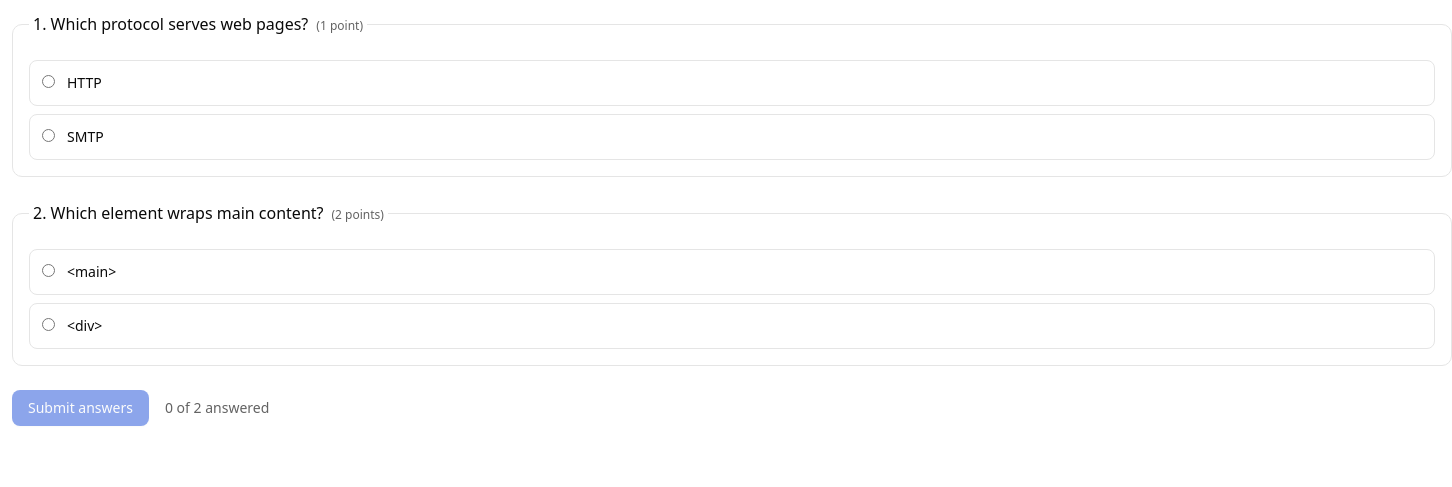
QuizForm › submits answers keyed by question id and shows server errors
The width and height of the screenshot is (1452, 487).
Click the radio button labelled "SMTP" at point(48, 136), box [42, 129, 55, 142]
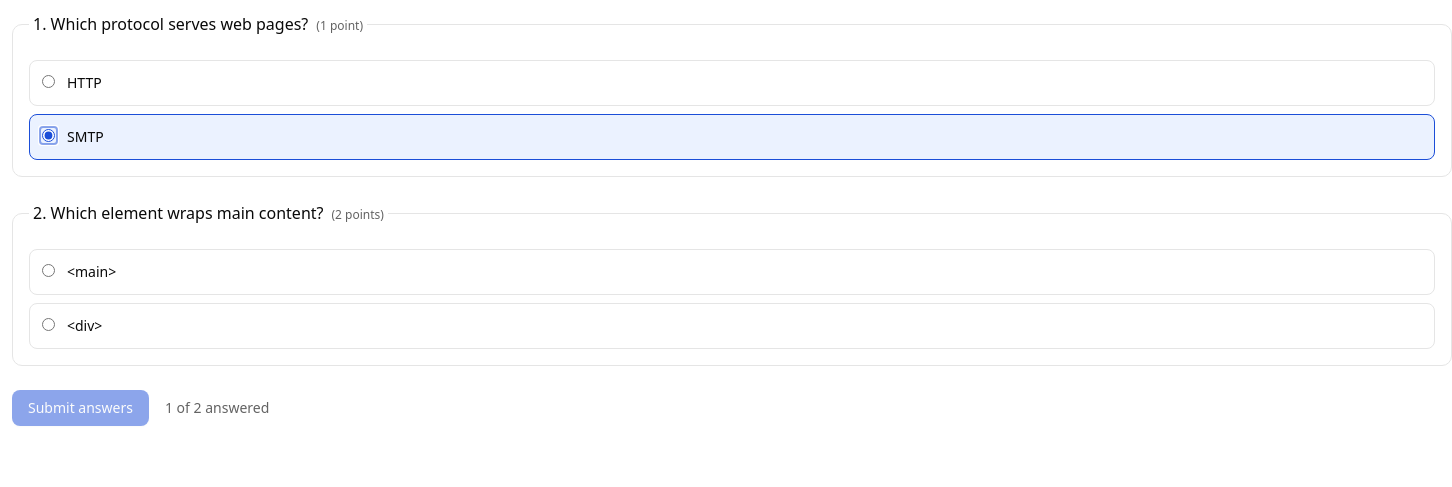
Click the radio button labelled "<main>" at point(48, 270), box [42, 264, 55, 277]
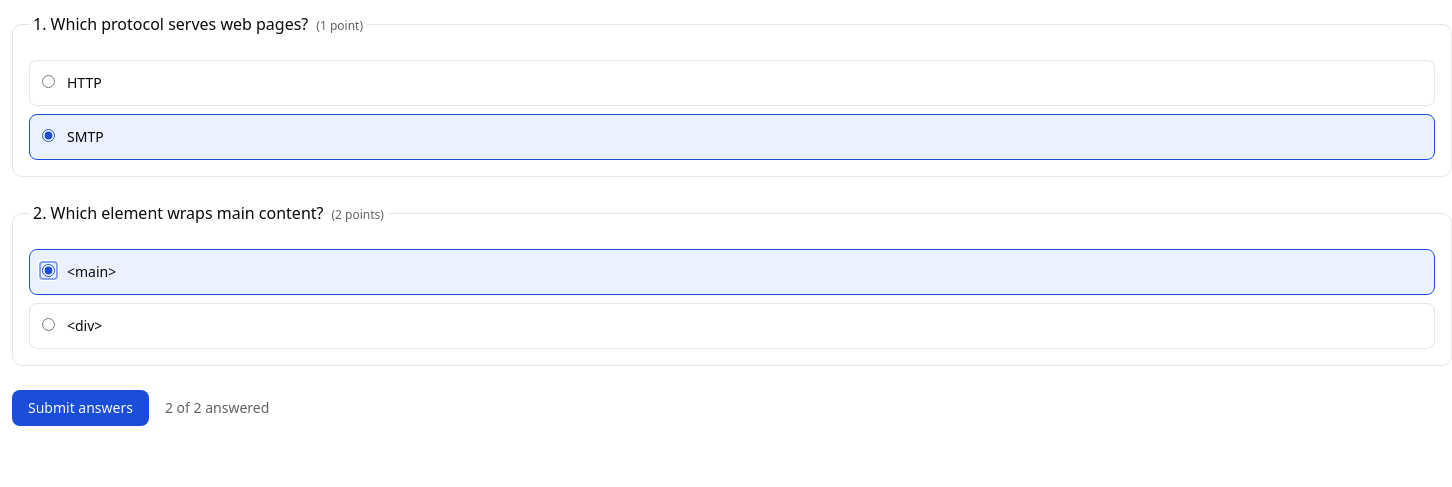
Click the button "Submit answers" at point(80, 408), box [12, 390, 149, 426]
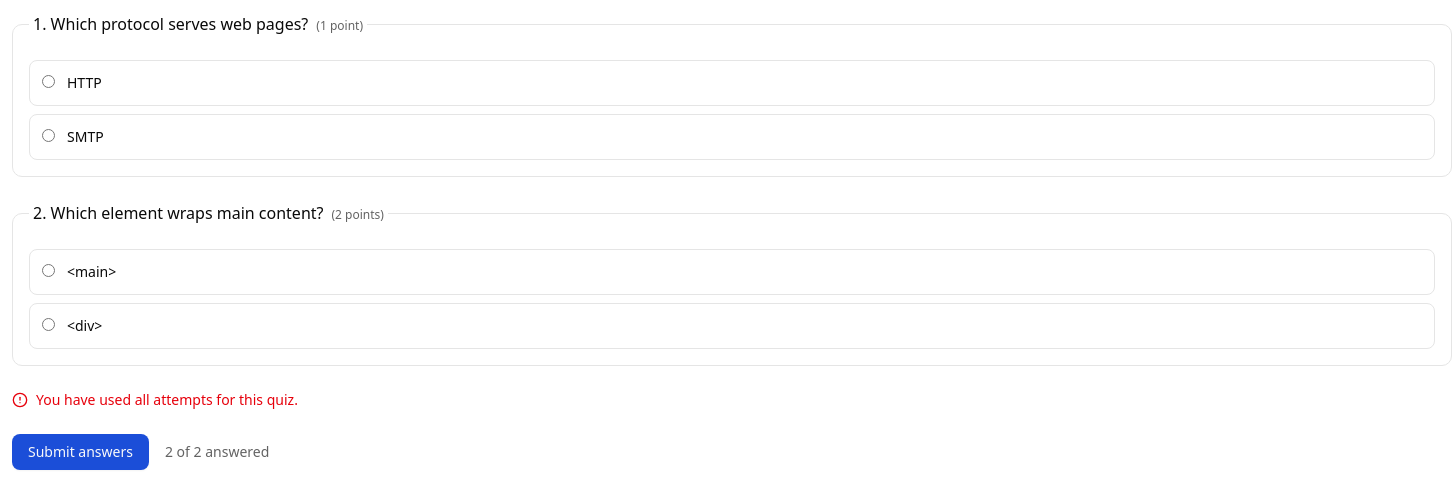
expect the message shows "You have used all attempts": met, box [36, 390, 298, 409]
